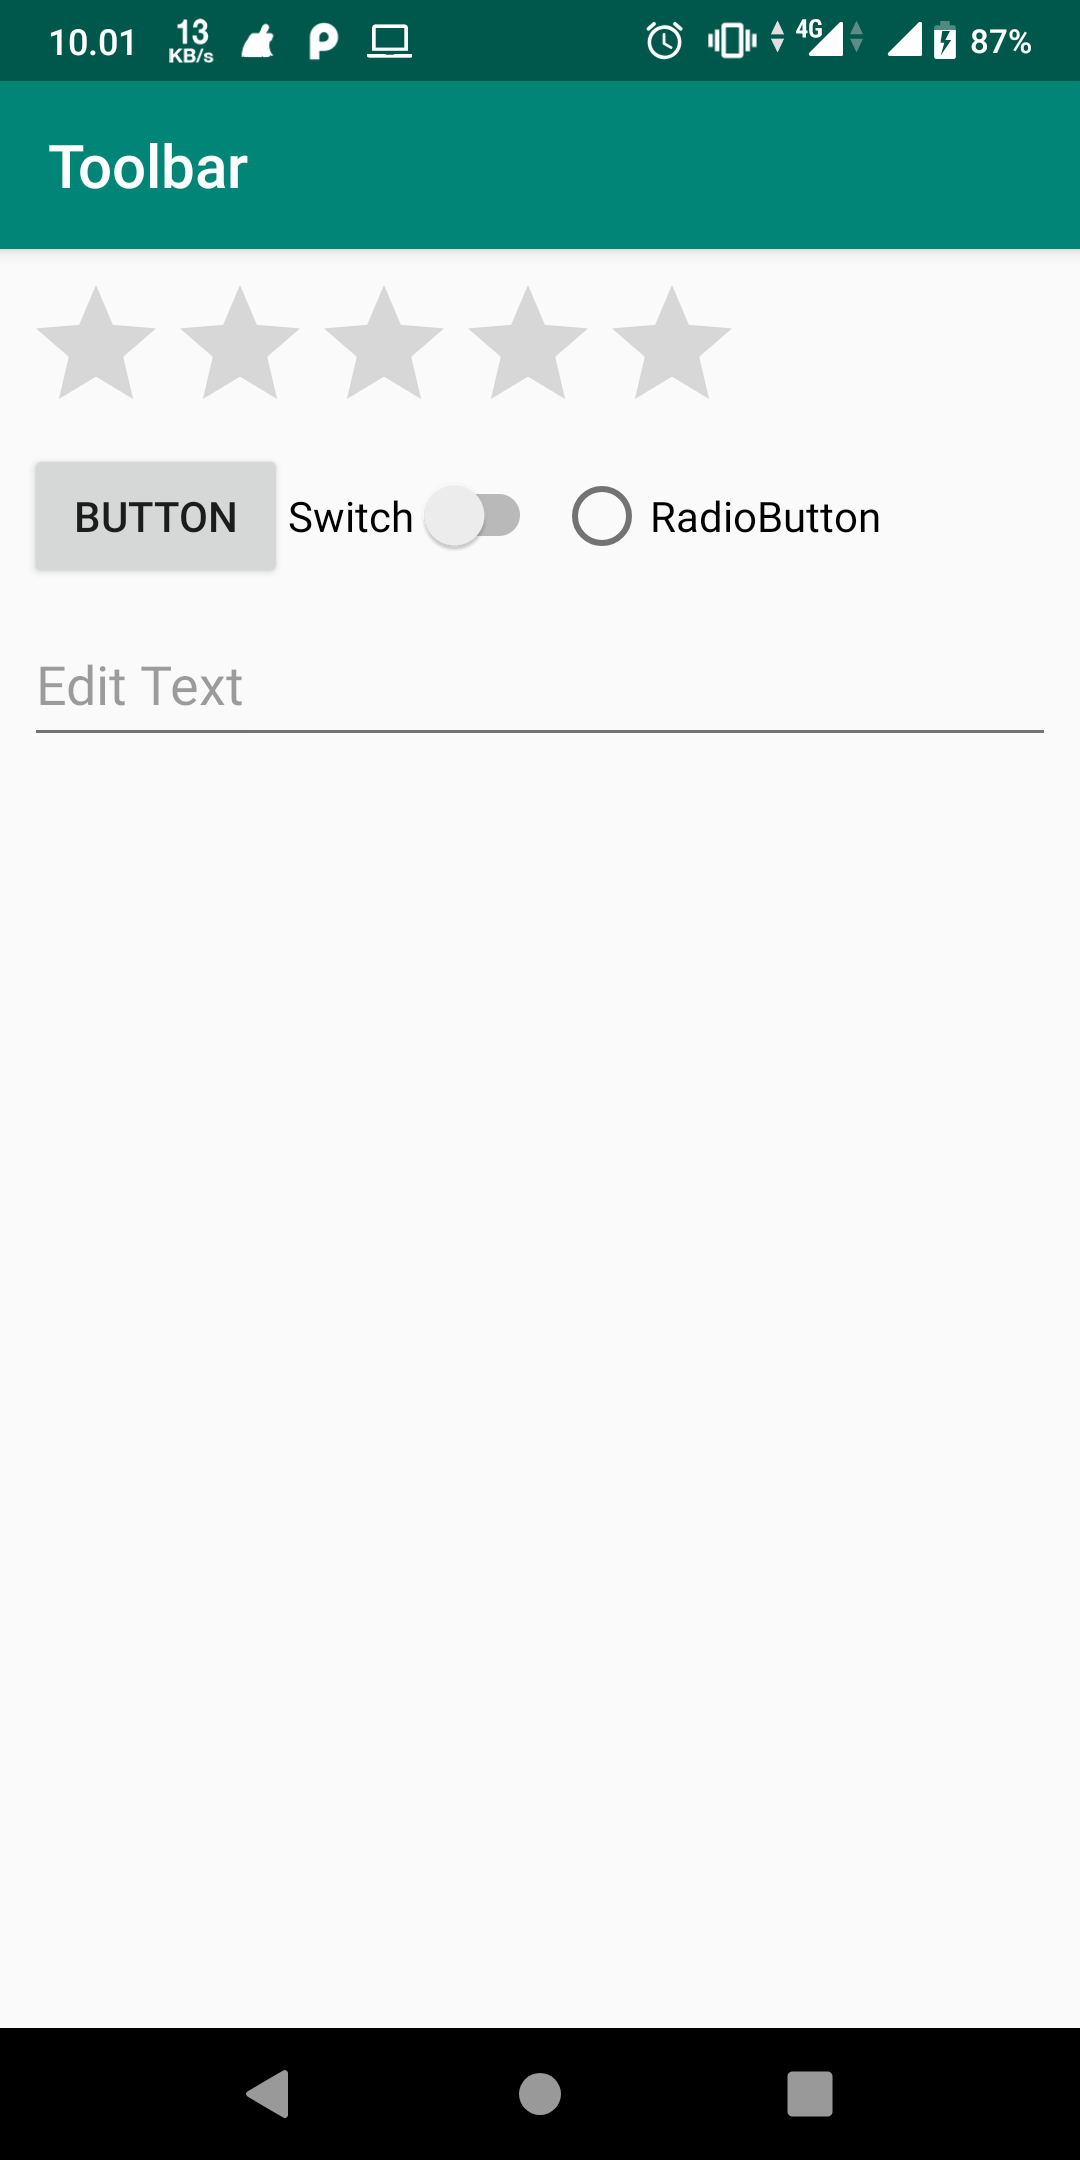button: (25, 450, 287, 583)
editText: (19, 647, 1057, 760)
radioButton: (563, 477, 886, 554)
ratingBar: (25, 273, 741, 409)
switch: (287, 486, 525, 554)
toolbar: (6, 80, 1079, 249)
